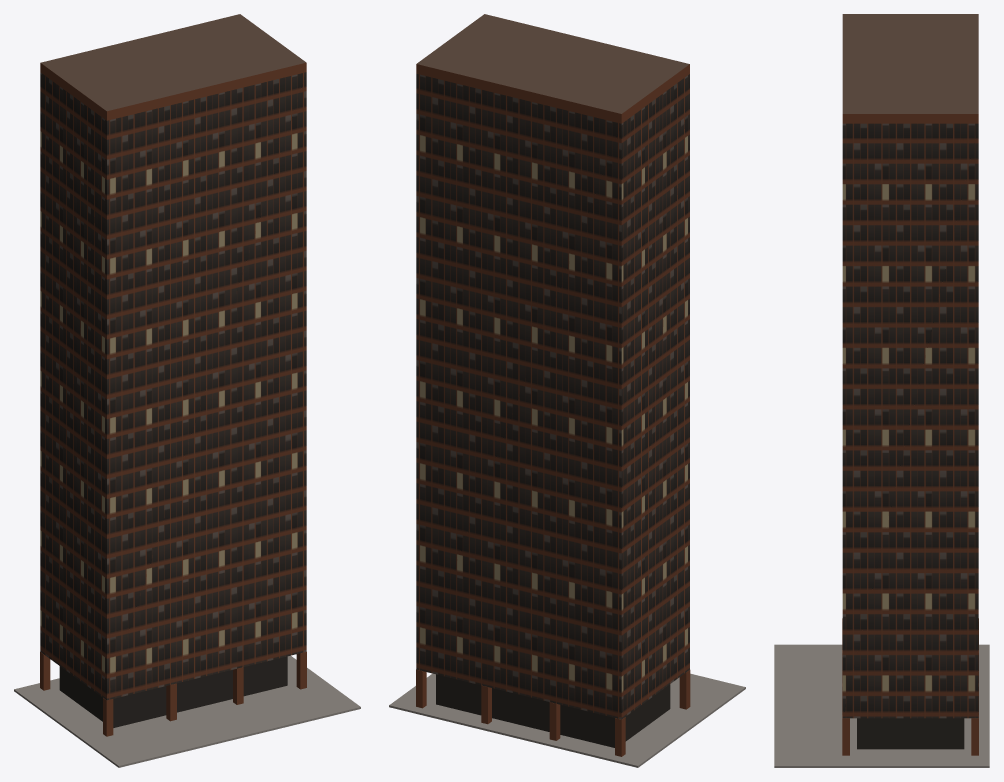
The model's file is daley_center.glb.
3 renders of one model, left to right at view 1: azimuth 30°, elevation 25°; view 2: azimuth 150°, elevation 25°; view 3: azimuth 270°, elevation 25°, orthographic. The views are drawn at different scales.
Parts seen in each view (by area): view 1: daley_center; view 2: daley_center; view 3: daley_center.
Boxes of the visible parts, x1=… form: daley_center: x1=14, y1=14, x2=360, y2=767; daley_center: x1=389, y1=14, x2=745, y2=767; daley_center: x1=774, y1=14, x2=989, y2=767.
Bounding box in the file's own units: 80 × 198 × 60.
2 materials, 2 textured.
